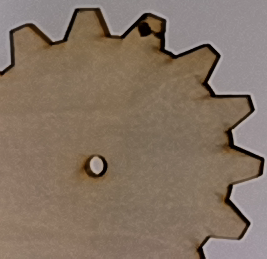Points: (134, 19, 165, 41)
